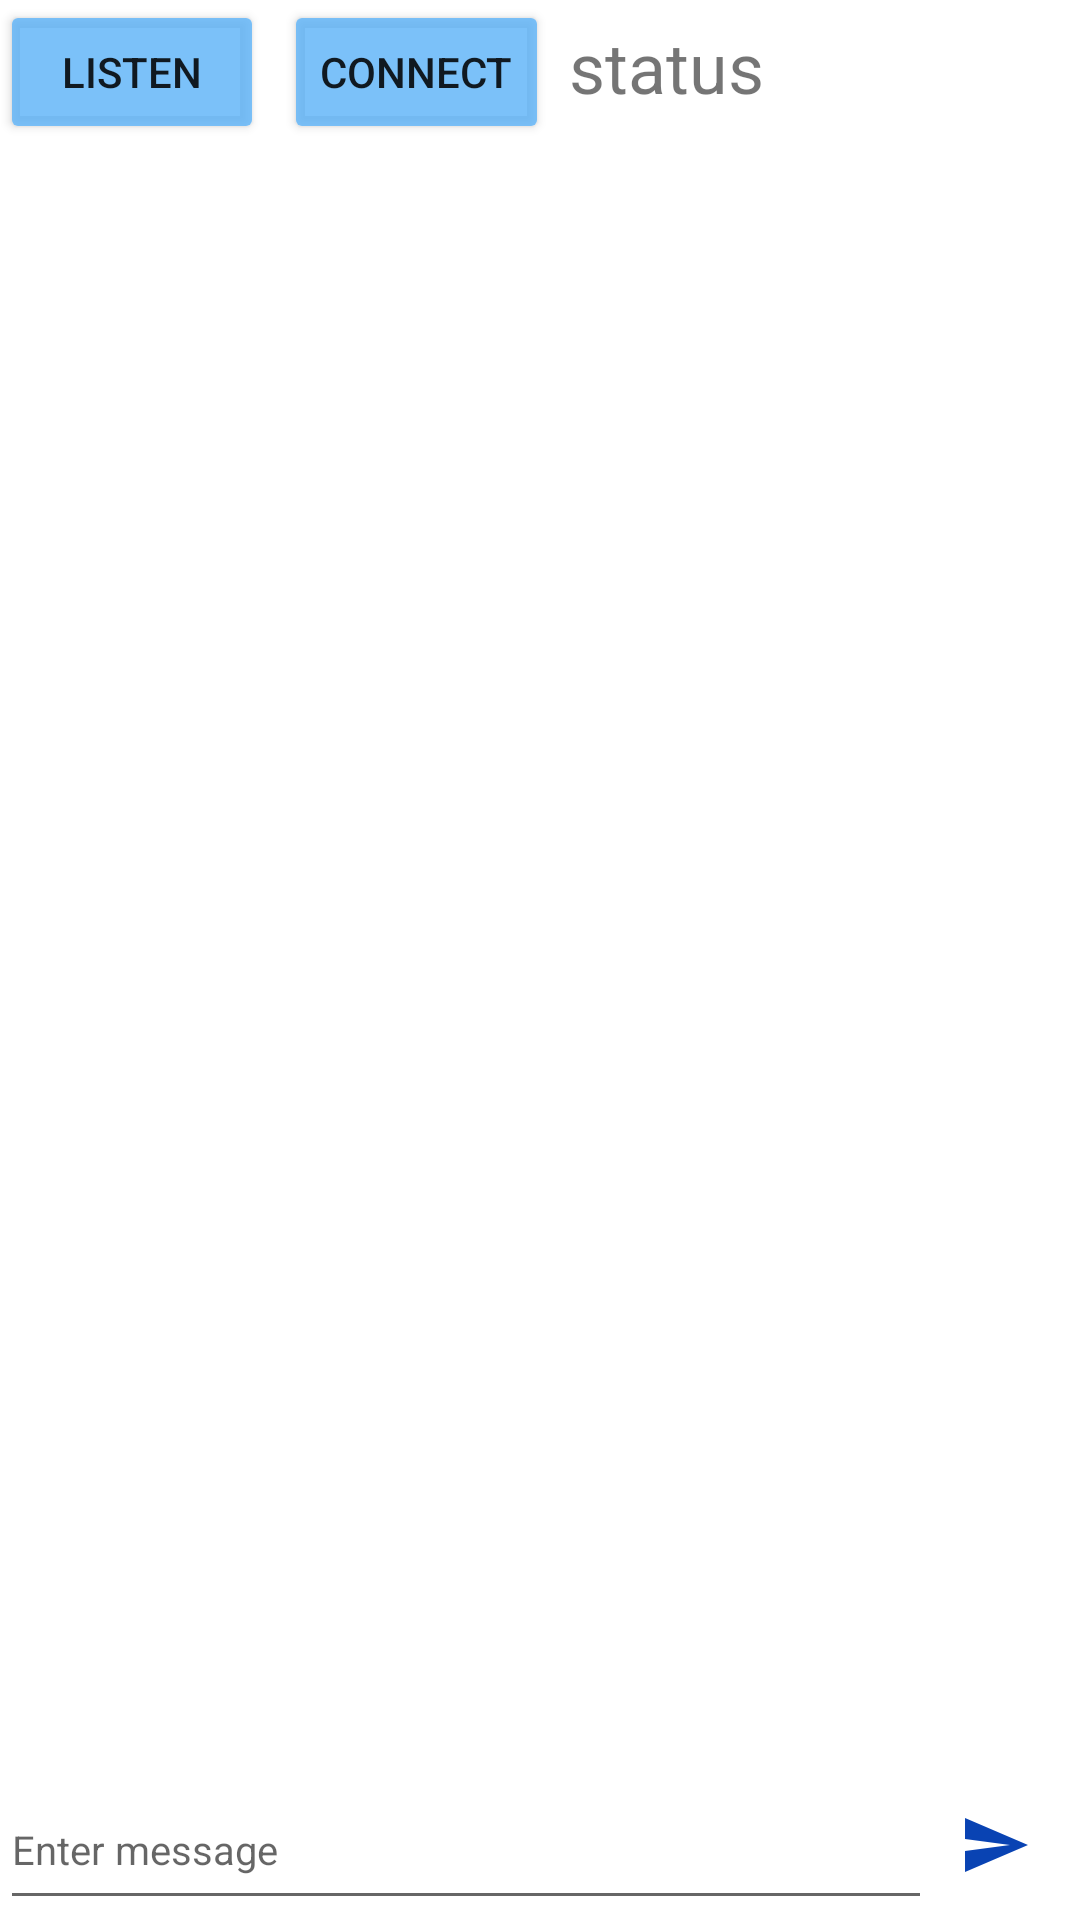

Icons on this 1080x1920 Android screen, each with its box as box(x1, y1, x2, y2):
send: box(965, 1818, 1028, 1872)
